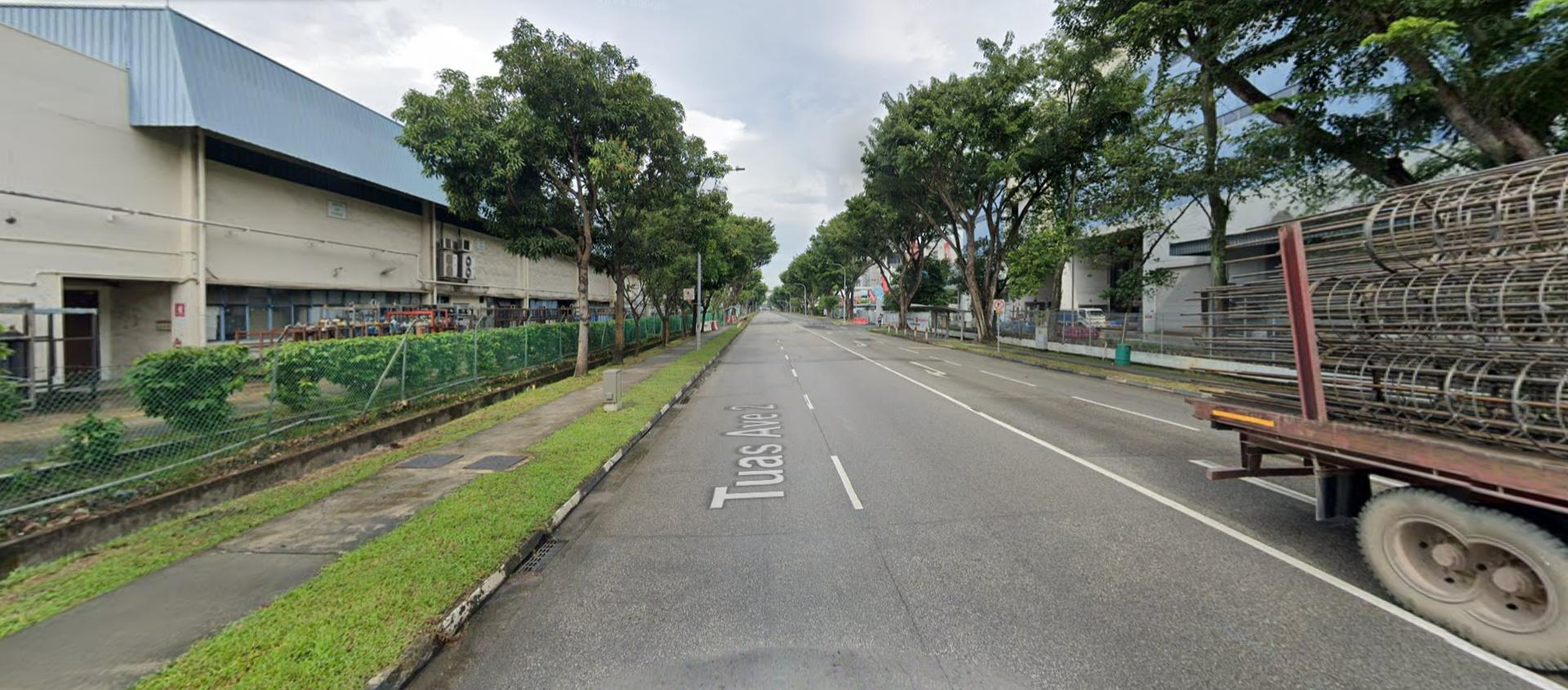normal: (515, 539, 573, 574)
